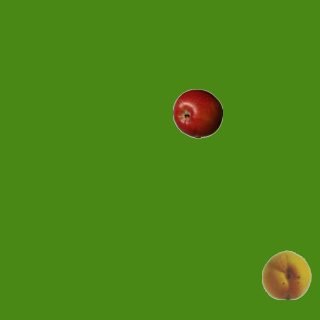Apple Braeburn: (172, 88, 222, 138)
Peach 2: (261, 249, 311, 299)
